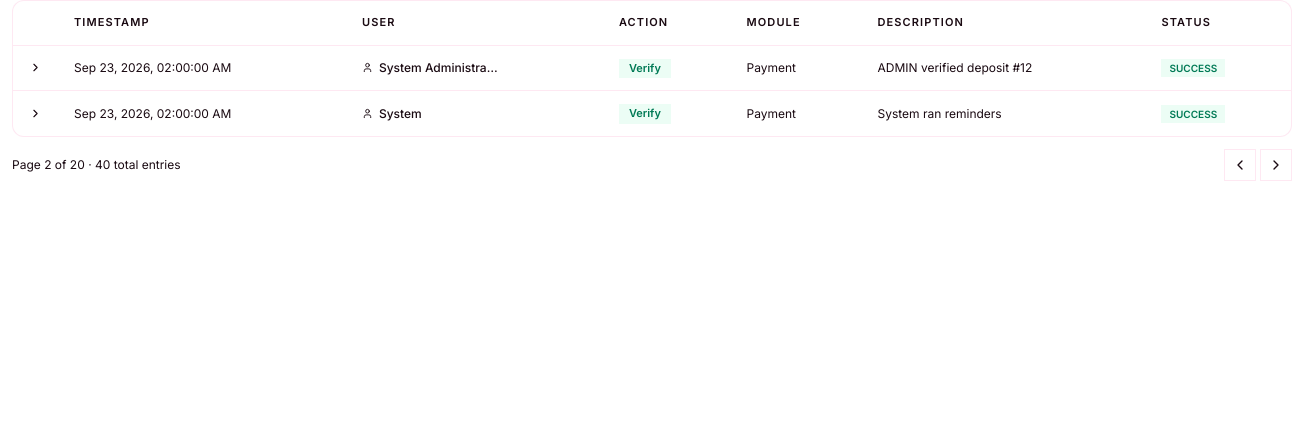
Test: AuditLogTable › lists entries (System for no user), expands one to show its hash and metadata
Check: the text "System" is shown, box [379,105,422,122]
Click the text "ADMIN verified deposit #12": [1004, 68] box [862,45,1146,91]
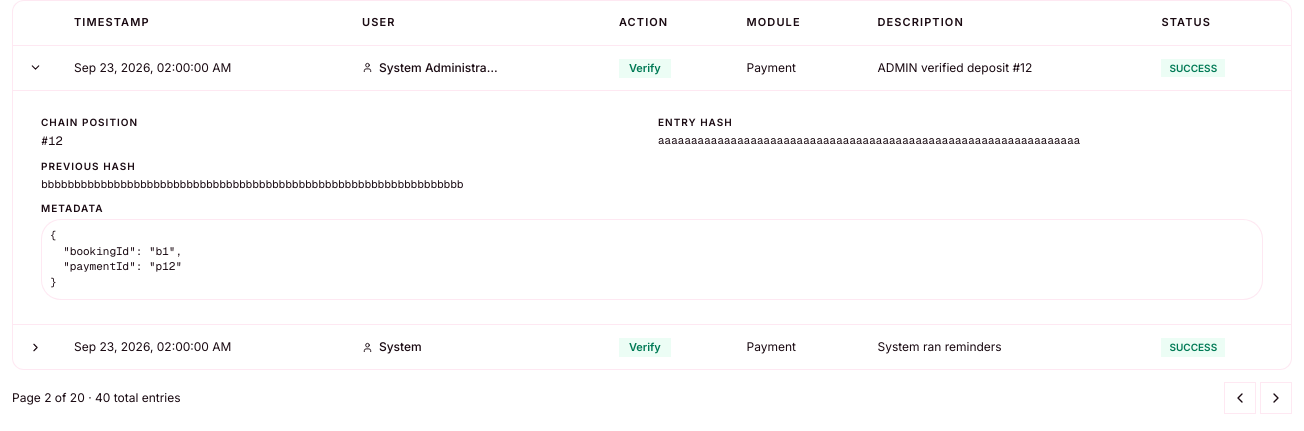
Check: the text "#12" is shown, box [41,134,63,150]
Check: the text "{ \"bookingId\": \"b1\", \"paymentId\": \"p12\" }" is shown, box [41,219,1263,300]
